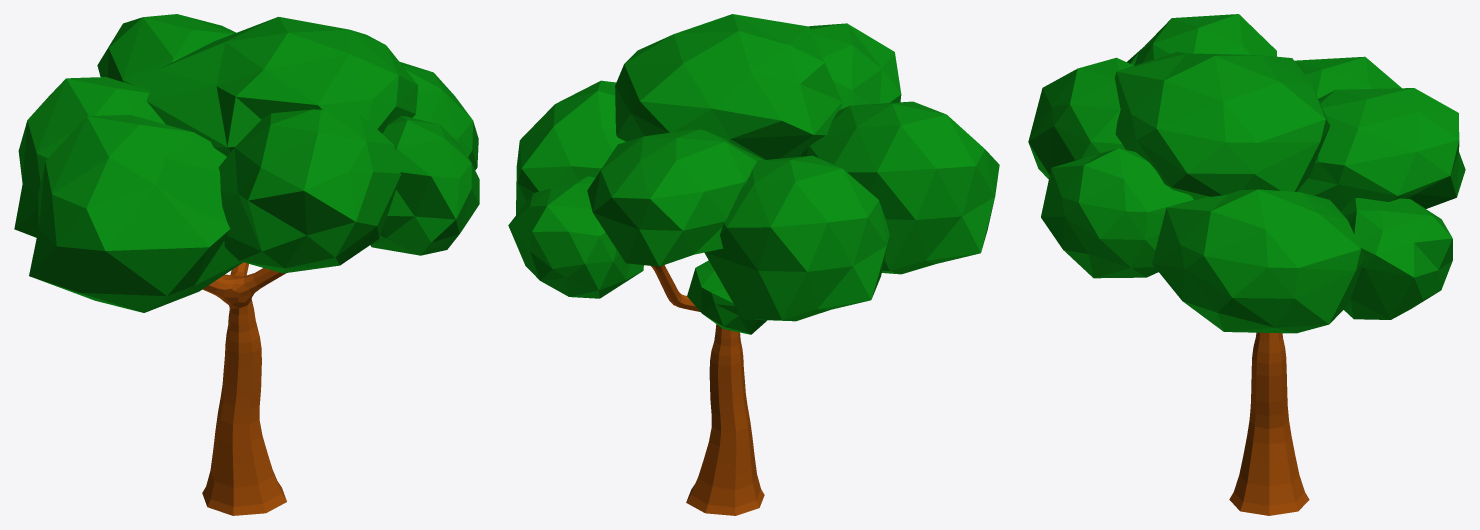
The model's file is tree.glb.
3 views of the same model, side by side, from view 1: azimuth 30°, elevation 25°; view 2: azimuth 150°, elevation 25°; view 3: azimuth 270°, elevation 25° (orthographic). The views are drawn at different scales.
Visible parts, largest first — view 1: Icosphere.002, Icosphere.007, Icosphere.001, Plane, Icosphere.006, Icosphere.003, Icosphere.004, Icosphere.005; view 2: Icosphere.001, Icosphere.003, Icosphere.002, Icosphere.004, Icosphere, Plane, Icosphere.005, Icosphere.007, Icosphere.008; view 3: Icosphere.001, Icosphere.005, Icosphere.004, Icosphere.006, Icosphere, Plane, Icosphere.007, Icosphere.002, Icosphere.003.
Boxes of the visible parts, bbox=[...] form: Icosphere.002: bbox=[29, 115, 242, 312]; Icosphere.007: bbox=[218, 109, 400, 273]; Icosphere.001: bbox=[146, 16, 418, 156]; Plane: bbox=[202, 262, 286, 515]; Icosphere.006: bbox=[370, 116, 479, 255]; Icosphere.003: bbox=[14, 77, 165, 237]; Icosphere.004: bbox=[97, 14, 236, 90]; Icosphere.005: bbox=[400, 62, 478, 170]; Icosphere.001: bbox=[615, 14, 842, 159]; Icosphere.003: bbox=[704, 155, 889, 321]; Icosphere.002: bbox=[800, 101, 999, 274]; Icosphere.004: bbox=[587, 129, 762, 266]; Icosphere: bbox=[508, 176, 643, 298]; Plane: bbox=[651, 265, 764, 515]; Icosphere.005: bbox=[516, 80, 625, 214]; Icosphere.007: bbox=[809, 23, 901, 109]; Icosphere.008: bbox=[687, 260, 766, 334]; Icosphere.001: bbox=[1114, 52, 1330, 199]; Icosphere.005: bbox=[1152, 189, 1364, 333]; Icosphere.004: bbox=[1297, 88, 1465, 211]; Icosphere.006: bbox=[1041, 148, 1193, 278]; Icosphere: bbox=[1341, 198, 1452, 319]; Plane: bbox=[1229, 332, 1309, 515]; Icosphere.007: bbox=[1028, 57, 1133, 179]; Icosphere.002: bbox=[1127, 14, 1276, 65]; Icosphere.003: bbox=[1294, 56, 1401, 98].
Bounding box in the file's own units: 16.38 × 16.46 × 14.43.
